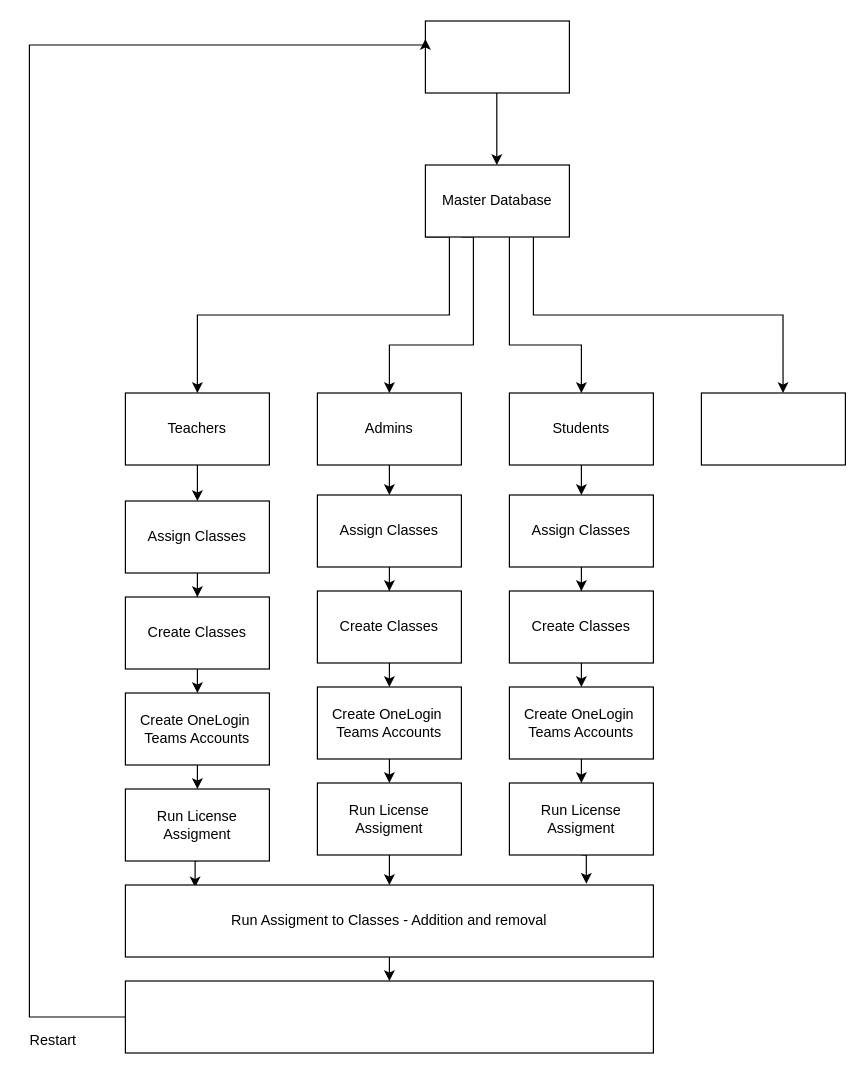
The diagram is 866 pixels wide and 1074 high, and some of its shapes have lost their labels. Here are the shapes that lost their labels. From the top down, the box of each, then its label:
(424, 20, 569, 93): Pull data from eSIS
(700, 392, 845, 465): Parents
(124, 980, 653, 1053): Update Teams and OneLogin
